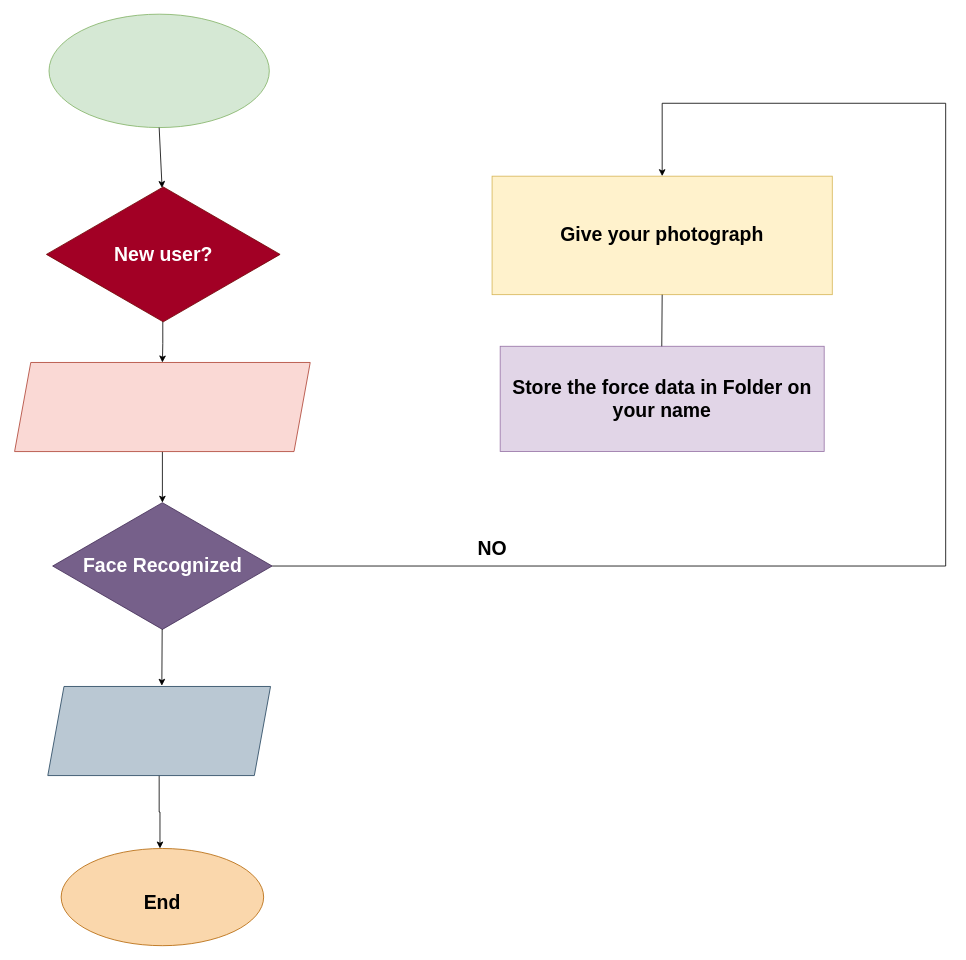
Image size: 966x960. Some labels were removed from this diagram. Here are the shapes that lost their labels. From the top down, the box of each, then its label:
(48, 13, 269, 128): Start
(14, 362, 310, 452): Recognize the face
(47, 686, 271, 776): Stored in csv file with Registration Number & Date Time of Entry
